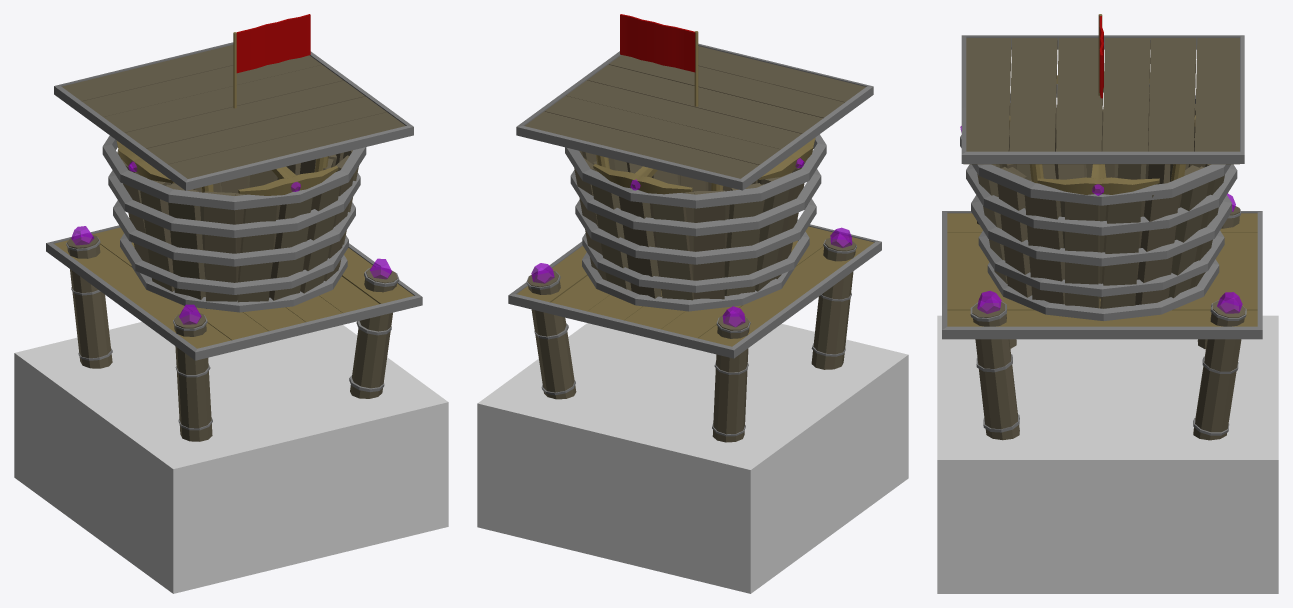
File: ArcherTowerLevel3.fbx
3 renders of one model, left to right at view 1: azimuth 30°, elevation 25°; view 2: azimuth 150°, elevation 25°; view 3: azimuth 270°, elevation 25°, orthographic. The views are drawn at different scales.
Visible parts, largest first — view 1: ArcherTowerLvl3; view 2: ArcherTowerLvl3; view 3: ArcherTowerLvl3.
Boxes of the visible parts, box(x1,y1,x2,y2) form: ArcherTowerLvl3: box(14, 14, 448, 593); ArcherTowerLvl3: box(477, 14, 908, 593); ArcherTowerLvl3: box(937, 14, 1278, 593).
Size of the model in its own units: 4 by 6.56 by 4.
